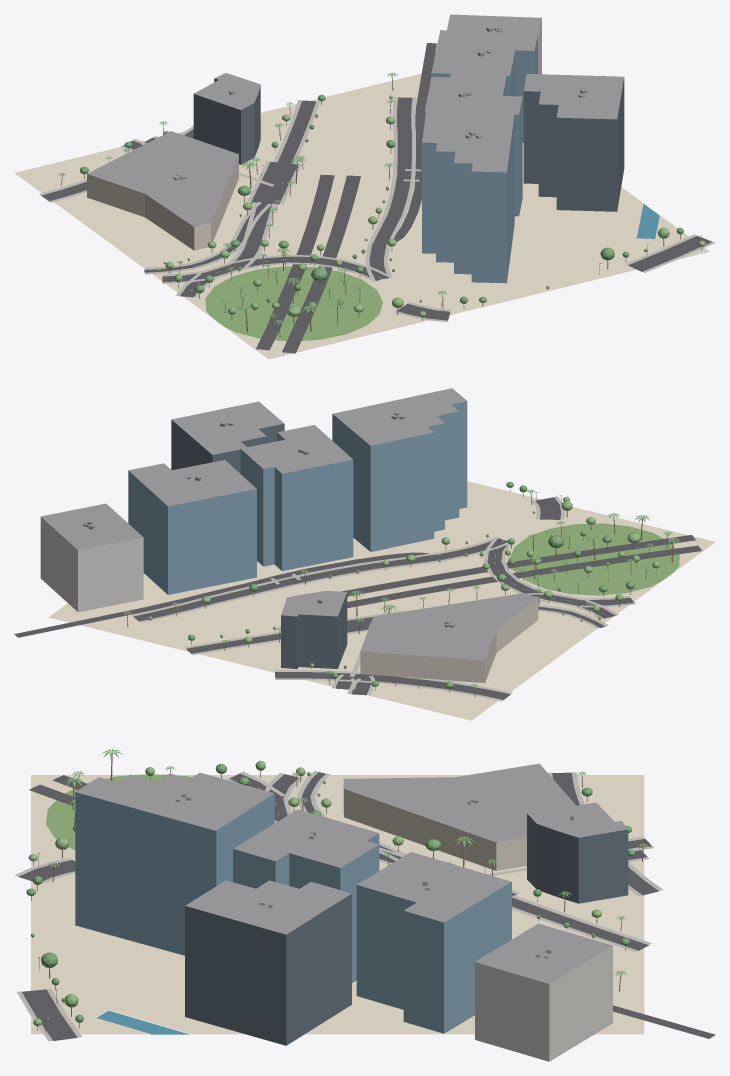
File: tile_0_6.glb
3 views of the same model, one above another, from view 1: azimuth 30°, elevation 25°; view 2: azimuth 150°, elevation 25°; view 3: azimuth 270°, elevation 25° (orthographic). The views are drawn at different scales.
Parts seen in each view (by area): view 1: nature_ground, buildings_roof, roads_asphalt, buildings_glass_dark, buildings_glass_blue, nature_grass, roads_sidewalk, buildings_concrete_warm, nature_foliage_b, nature_foliage_a, nature_palm_leaf, nature_trunk (+1 smaller); view 2: buildings_glass_blue, nature_ground, buildings_roof, roads_asphalt, nature_grass, buildings_concrete_light, buildings_glass_dark, roads_sidewalk, buildings_concrete_warm, nature_foliage_b, nature_palm_leaf, nature_foliage_a (+1 smaller); view 3: buildings_glass_blue, buildings_roof, nature_ground, buildings_glass_dark, buildings_concrete_light, roads_asphalt, buildings_concrete_warm, roads_sidewalk, nature_grass, nature_foliage_a, nature_foliage_b, nature_water (+2 smaller).
Part boxes in pixels (x1,y1,x2,y2): nature_ground: (14, 73, 709, 359); buildings_roof: (87, 14, 623, 226); roads_asphalt: (41, 43, 712, 353); buildings_glass_dark: (193, 77, 624, 211); buildings_glass_blue: (422, 35, 537, 283); nature_grass: (205, 266, 382, 341); roads_sidewalk: (39, 97, 715, 322); buildings_concrete_warm: (87, 155, 238, 250); nature_foliage_b: (157, 95, 705, 316); nature_foliage_a: (80, 94, 683, 309); nature_palm_leaf: (58, 72, 447, 324); nature_trunk: (61, 76, 702, 337); buildings_glass_blue: (128, 401, 467, 594); nature_ground: (48, 481, 715, 720); buildings_roof: (41, 388, 537, 660); roads_asphalt: (14, 497, 701, 699); nature_grass: (509, 523, 679, 595); buildings_concrete_light: (40, 517, 143, 612); buildings_glass_dark: (171, 420, 347, 669); roads_sidewalk: (131, 496, 635, 701); buildings_concrete_warm: (360, 597, 538, 682); nature_foliage_b: (148, 496, 659, 667); nature_palm_leaf: (122, 489, 680, 687); nature_foliage_a: (188, 482, 634, 688); buildings_glass_blue: (75, 792, 511, 1033); buildings_roof: (76, 763, 627, 983); nature_ground: (31, 775, 644, 1034); buildings_glass_dark: (185, 814, 628, 1045); buildings_concrete_light: (475, 945, 612, 1061); roads_asphalt: (18, 772, 715, 1040); buildings_concrete_warm: (343, 785, 526, 870); roads_sidewalk: (14, 770, 663, 1041); nature_grass: (45, 774, 191, 850); nature_foliage_a: (26, 764, 635, 1022); nature_foliage_b: (28, 760, 601, 1025); nature_water: (97, 1010, 189, 1034).
Size of the model in its own units: 280 by 61.71 by 286.
